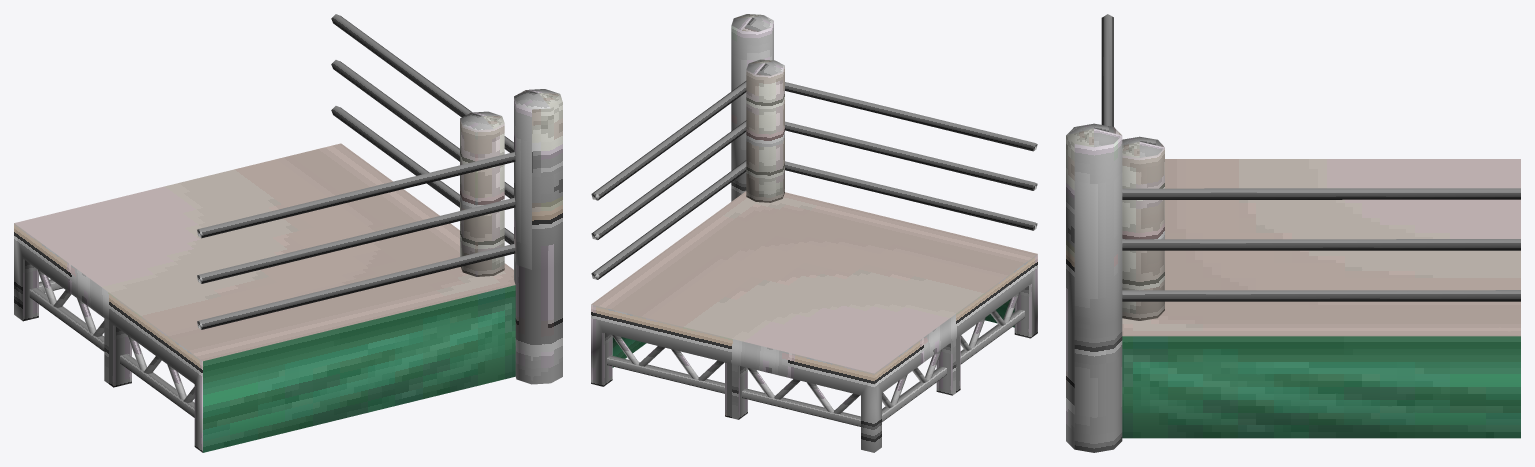
File: int_wrs_bedW03.dae
3 renders of one model, left to right at view 1: azimuth 30°, elevation 25°; view 2: azimuth 150°, elevation 25°; view 3: azimuth 270°, elevation 25°, orthographic. The views are drawn at different scales.
Visible parts, largest first — view 1: int_wrs_bedW03; view 2: int_wrs_bedW03; view 3: int_wrs_bedW03.
Part boxes in pixels (<box>): int_wrs_bedW03: <box>14,14,562,452</box>; int_wrs_bedW03: <box>591,14,1037,452</box>; int_wrs_bedW03: <box>1066,14,1520,452</box>.
Bounding box in the file's own units: 64.72 × 49.1 × 64.72.
2 materials, 2 textured.
